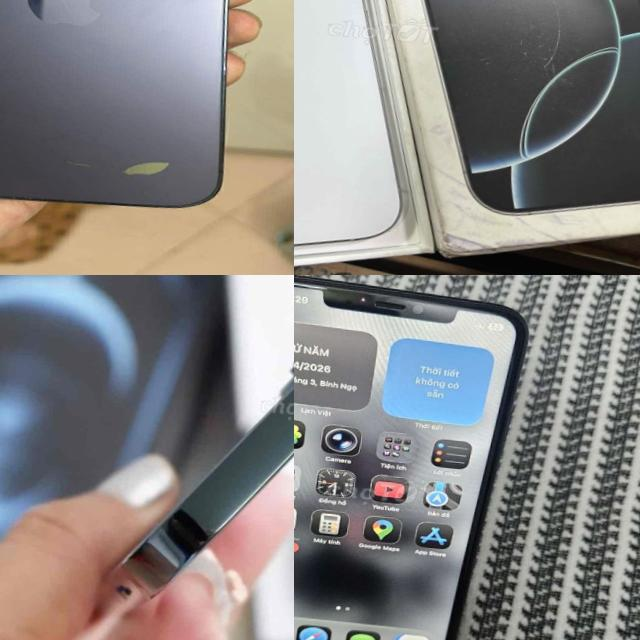scratch: (115, 148, 175, 185), (55, 149, 106, 181), (294, 277, 334, 300)
